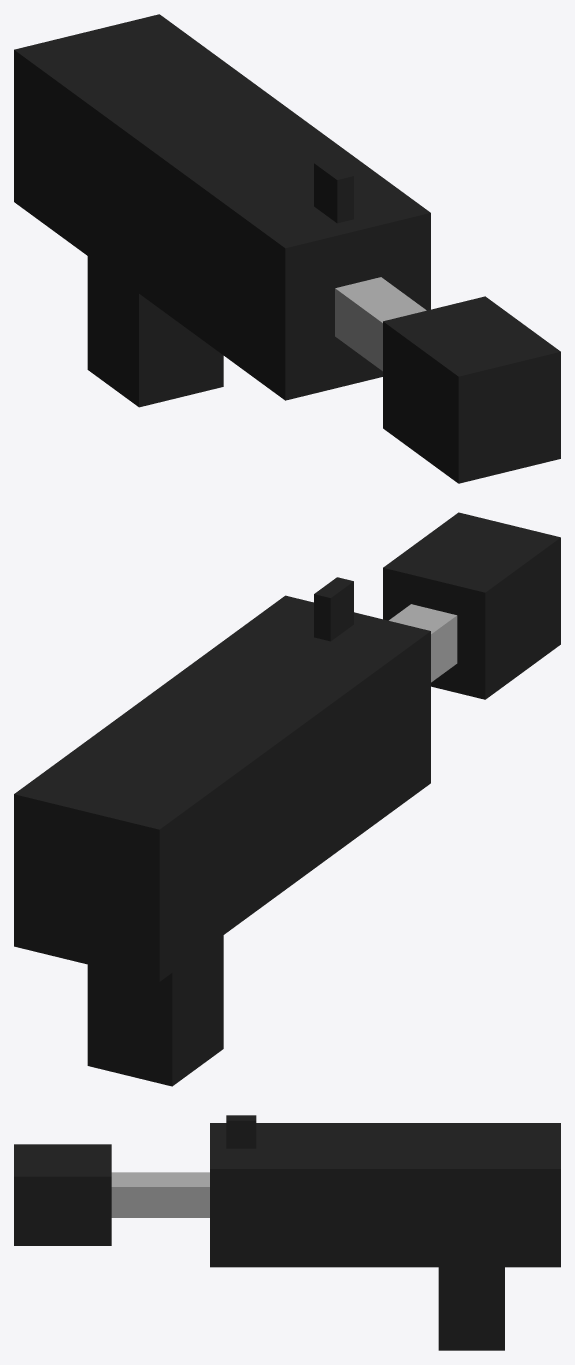
The model's file is pistol.glb.
3 renders of one model, top to bottom at view 1: azimuth 30°, elevation 25°; view 2: azimuth 150°, elevation 25°; view 3: azimuth 270°, elevation 25°, orthographic. The views are drawn at different scales.
Parts seen in each view (by area): view 1: Cube; view 2: Cube; view 3: Cube.
Part boxes in pixels (x1,y1,x2,y2): Cube: (14,14,560,483); Cube: (14,512,560,1086); Cube: (14,1115,560,1350).
Size of the model in its own units: 0.1671 by 0.372 by 0.841.
Materials: 1 (1 with a texture image).
